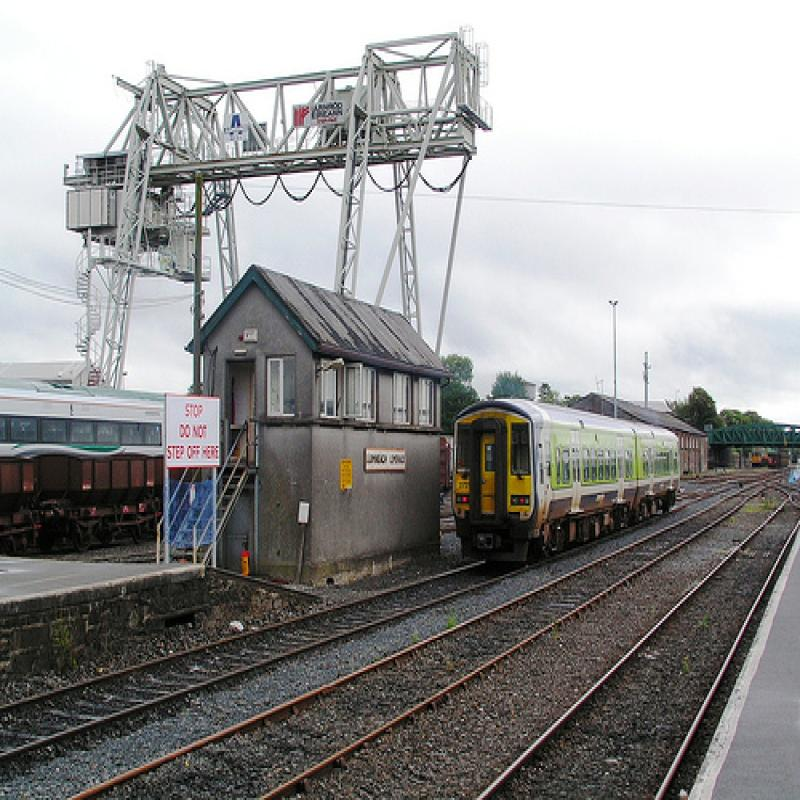train: (454, 400, 684, 568), (3, 390, 171, 456)
